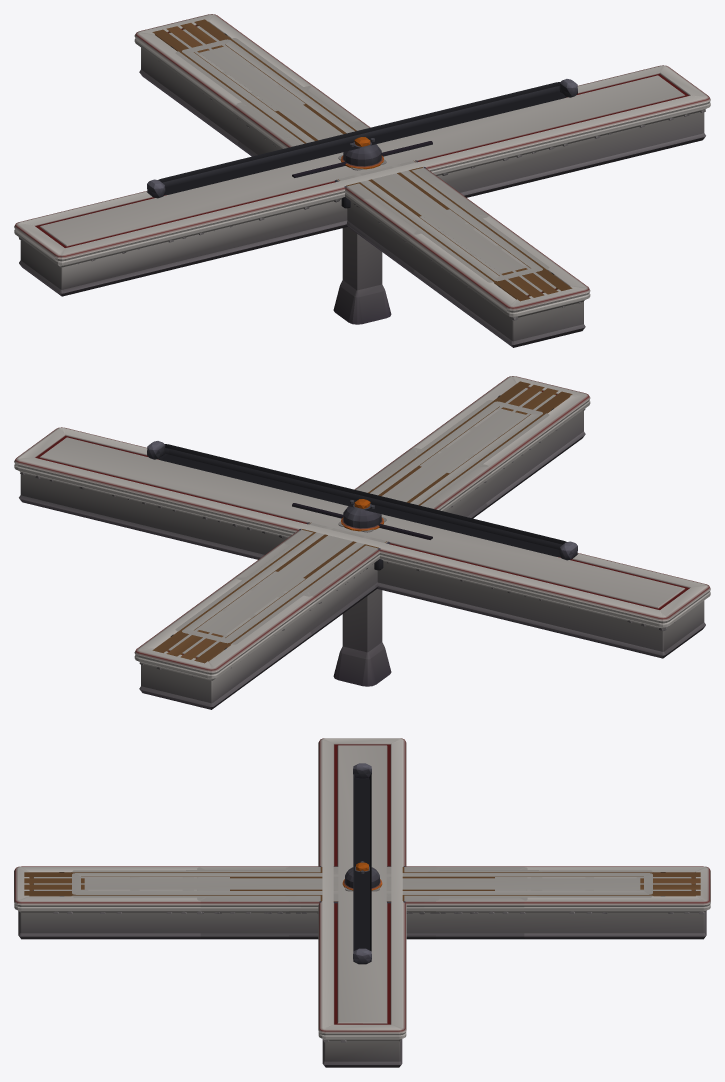
Rendered from fortress-4-DM14SQrm.glb.
The picture shows the model from 3 angles, top to bottom: view 1: azimuth 30°, elevation 25°; view 2: azimuth 150°, elevation 25°; view 3: azimuth 270°, elevation 25°; orthographic projection. The views are drawn at different scales.
Parts seen in each view (by area): view 1: block_47.29999999999927x2x6#0, block_6x2x47.400000000000006#1, block_4x2x40_grate#1, mount_14.9#0, block_4x2x46_plank#1, support_1_square#0, block_6x2x23#1, block_5x2x40#1, block_5x2x25#1, barHub_11x1.2#0, block_6x2x11#1, beam_2.5x1.5x18_plank#1; view 2: block_47.29999999999927x2x6#0, block_6x2x47.400000000000006#1, block_4x2x40_grate#1, mount_14.9#0, block_4x2x46_plank#1, support_1_square#0, block_6x2x23#1, block_5x2x40#1, block_5x2x25#1, barHub_11x1.2#0, block_6x2x11#1, beam_2.5x1.5x18_plank#1; view 3: block_6x2x47.400000000000006#1, block_47.29999999999927x2x6#0, block_4x2x40_grate#1, block_6x2x23#1, block_4x2x46_plank#1, mount_14.9#0, block_5x2x40#1, block_5x2x25#1, block_6x2x11#1, beam_2.5x1.5x18_plank#1, barHub_11x1.2#0.
Part boxes in pixels (bbox=[...]): block_47.29999999999927x2x6#0: bbox=[14, 65, 710, 296]; block_6x2x47.400000000000006#1: bbox=[134, 14, 590, 347]; block_4x2x40_grate#1: bbox=[182, 39, 542, 281]; mount_14.9#0: bbox=[147, 79, 577, 198]; block_4x2x46_plank#1: bbox=[152, 19, 572, 301]; support_1_square#0: bbox=[333, 155, 391, 324]; block_6x2x23#1: bbox=[233, 86, 490, 275]; block_5x2x40#1: bbox=[175, 38, 549, 282]; block_5x2x25#1: bbox=[235, 82, 489, 238]; barHub_11x1.2#0: bbox=[292, 137, 432, 177]; block_6x2x11#1: bbox=[283, 121, 441, 240]; beam_2.5x1.5x18_plank#1: bbox=[275, 104, 449, 216]; block_47.29999999999927x2x6#0: bbox=[14, 427, 710, 658]; block_6x2x47.400000000000006#1: bbox=[134, 376, 590, 709]; block_4x2x40_grate#1: bbox=[182, 401, 542, 643]; mount_14.9#0: bbox=[147, 441, 577, 560]; block_4x2x46_plank#1: bbox=[152, 381, 572, 663]; support_1_square#0: bbox=[333, 517, 391, 686]; block_6x2x23#1: bbox=[234, 448, 491, 637]; block_5x2x40#1: bbox=[175, 400, 549, 644]; block_5x2x25#1: bbox=[235, 444, 489, 600]; barHub_11x1.2#0: bbox=[292, 499, 432, 539]; block_6x2x11#1: bbox=[283, 483, 441, 602]; beam_2.5x1.5x18_plank#1: bbox=[275, 466, 449, 578]; block_6x2x47.400000000000006#1: bbox=[14, 866, 710, 939]; block_47.29999999999927x2x6#0: bbox=[318, 738, 406, 1067]; block_4x2x40_grate#1: bbox=[72, 873, 652, 894]; block_6x2x23#1: bbox=[197, 866, 527, 939]; block_4x2x46_plank#1: bbox=[24, 872, 700, 896]; mount_14.9#0: bbox=[353, 763, 371, 964]; block_5x2x40#1: bbox=[71, 870, 653, 897]; block_5x2x25#1: bbox=[182, 870, 542, 897]; block_6x2x11#1: bbox=[285, 866, 439, 939]; beam_2.5x1.5x18_plank#1: bbox=[230, 877, 494, 890]; barHub_11x1.2#0: bbox=[342, 862, 382, 890].
Bounding box in the file's own units: 47.3 × 12.5 × 47.4.
